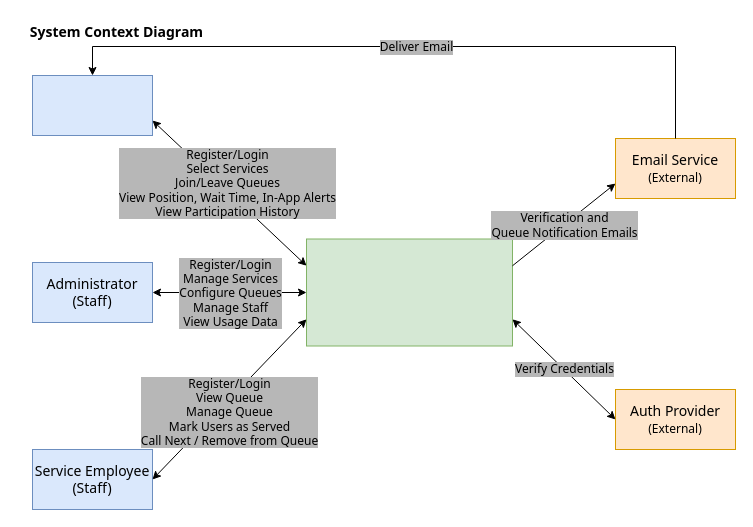
The diagram is 753 pixels wide and 527 high, and some of its shapes have lost their labels. The box of each missing label's shape, as (x1, y1, x2, y2) in pixels:
QueueSmart System Queue and service management: (306, 238, 512, 346)
User (Customer): (32, 74, 152, 136)
